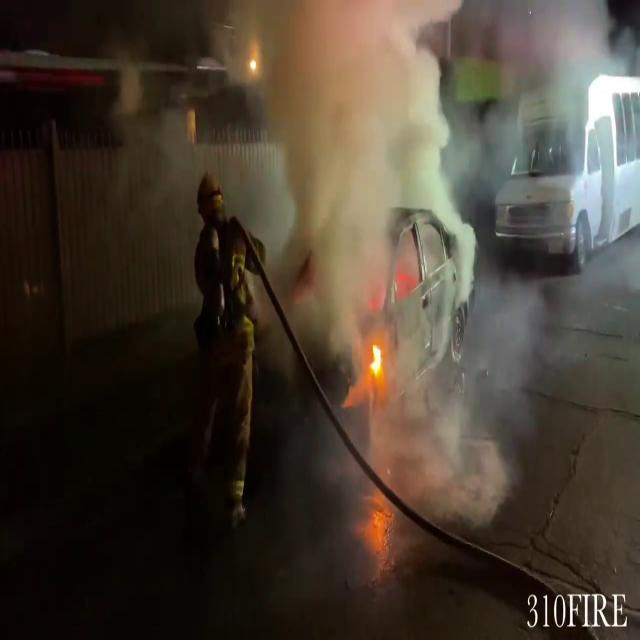Fire: (366, 331, 386, 388)
Smoke: (252, 0, 476, 342)
